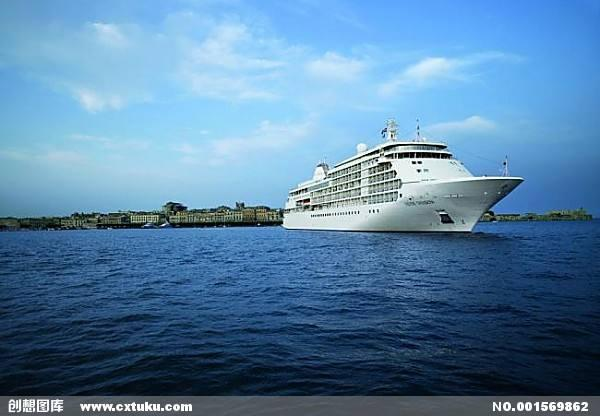youlun: (277, 116, 525, 233)
